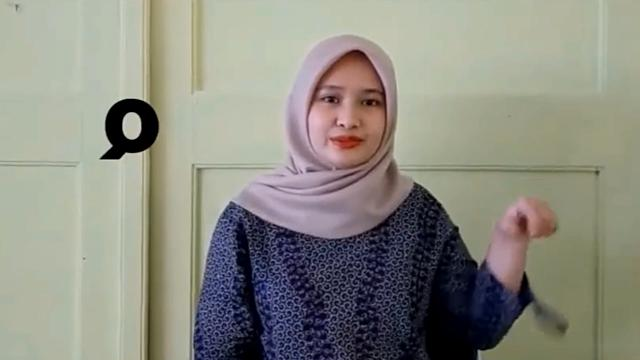Q: (488, 192, 562, 252)
